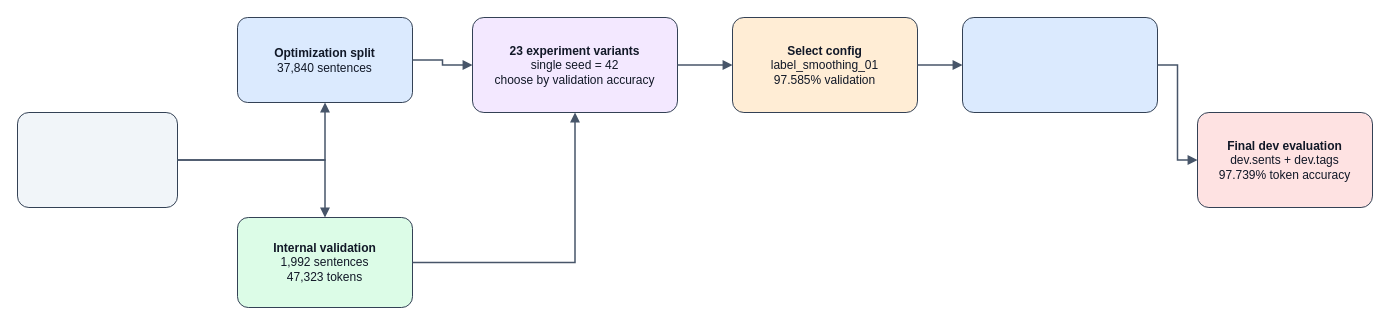
The diagram is 1390 pixels wide and 325 high, and some of its shapes have lost their labels. Each missing label, with the centre of its shape:
"Final refit all 39,832 train sentences 16 epochs" goes at pixel 1060 64.
"train.tags 39,832 sentences 950,028 tokens" goes at pixel 97 160.
